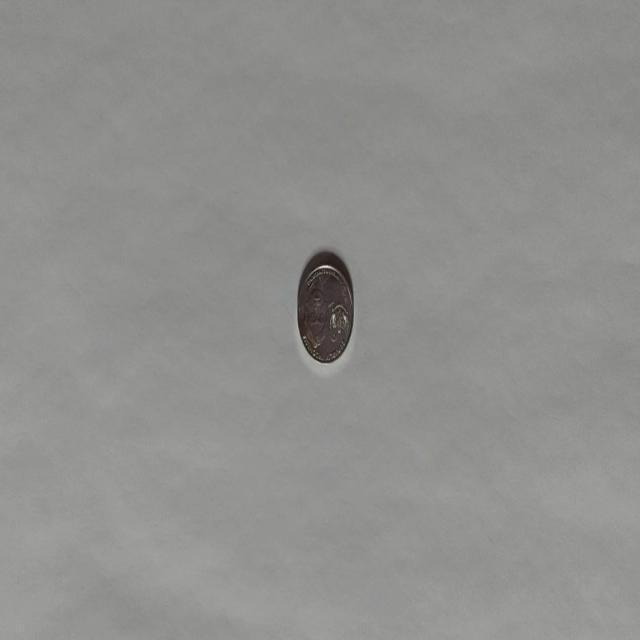dua ratus rupiah: (296, 253, 354, 364)
